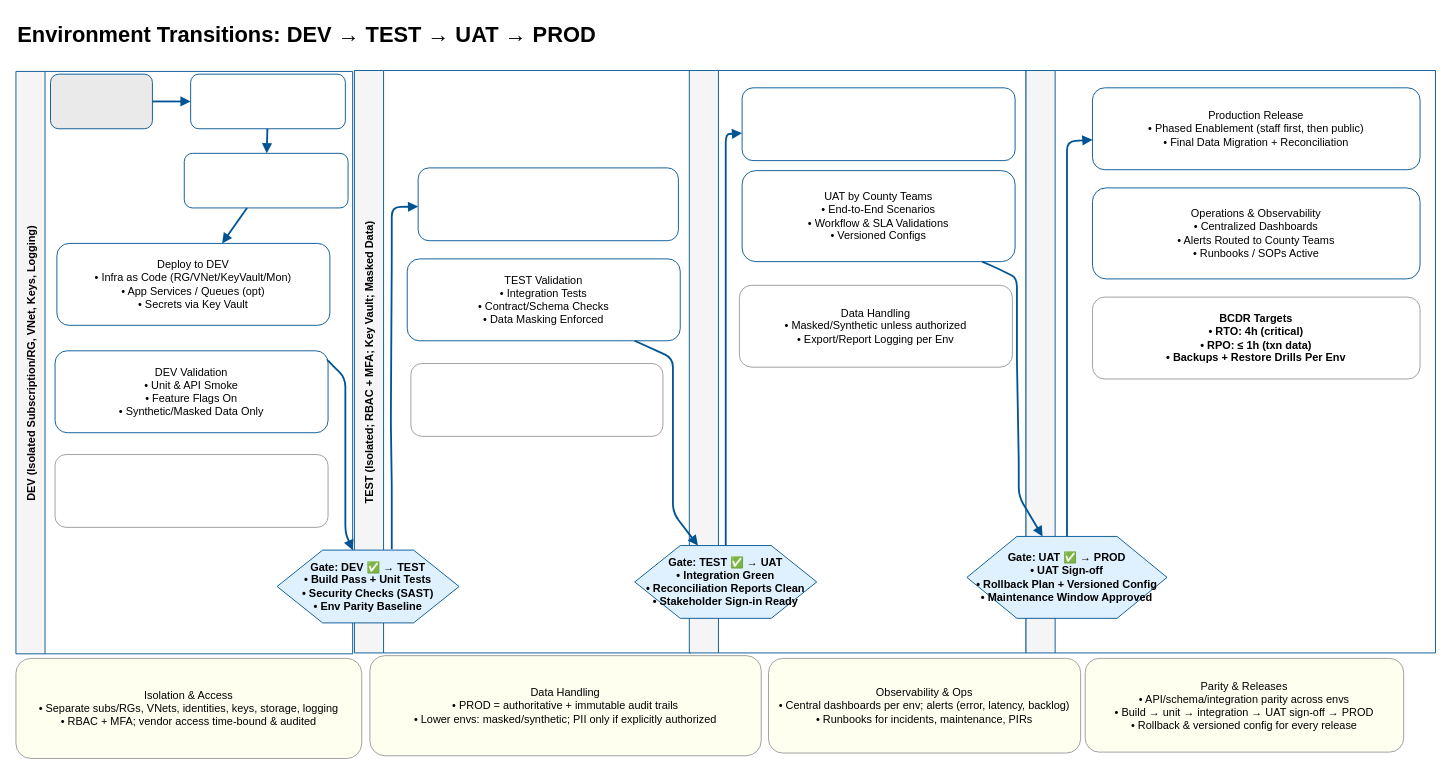
Some shapes in this 1451 by 774 pixel diagram are drawn without their labels. Here are the shapes that lost their labels. From the top down, the box of each, then its label:
(50, 73, 152, 129): Source / Infra as Code
(190, 73, 345, 129): Build & Static Analysis • Compile, Unit Tests • SAST / Lint
(741, 87, 1015, 161): Deploy to UAT • Parity with PROD (APIs, Schemas, Integrations)
(183, 152, 348, 208): Versioned Artifact + Config • Container/Image • Schema Migrations
(417, 167, 678, 241): Deploy to TEST • Like‑for‑Like with DEV • Integration Endpoints Staged
(688, 70, 1026, 653): UAT (Parity, Integration Validations, Sign‑off)
(1025, 70, 1436, 653): PROD (Authoritative Data, Immutable Audit Trails)
(410, 363, 663, 436): Ops Readiness • Runbooks Draft • Alert Rules (error rate, latency, backlog)
(54, 454, 328, 527): Observability • Azure Monitor Dashboards • Logs per Env; Alerts (errors/latency)
